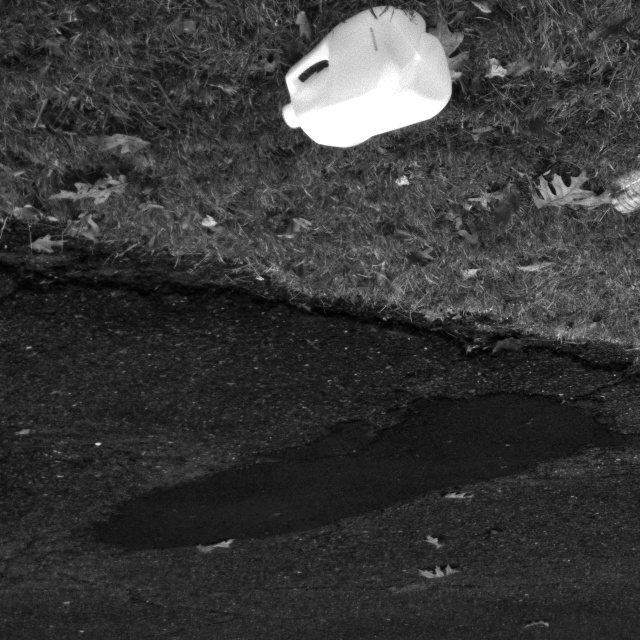bottle: (581, 125, 640, 230)
can: (252, 4, 464, 169)
